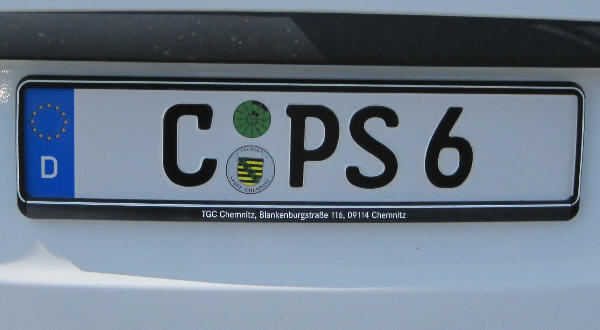license_plate: (15, 79, 582, 207)
